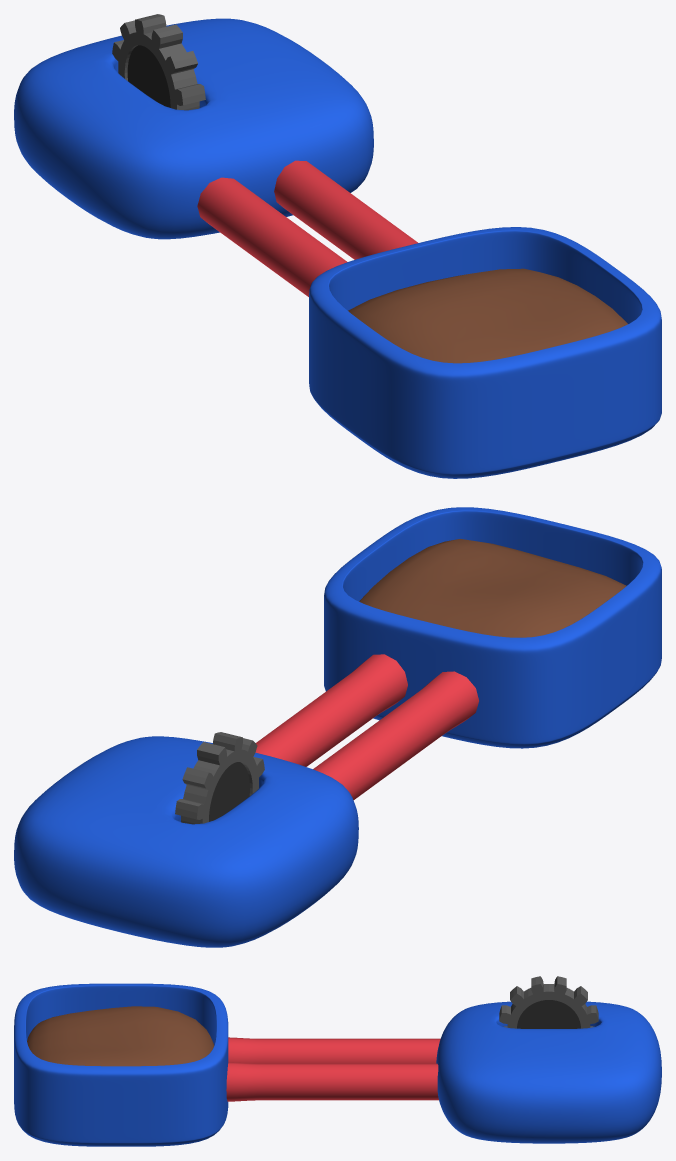
Rendered from simple-animation-three-anime.glb.
3 views of the same model, one above another, from view 1: azimuth 30°, elevation 25°; view 2: azimuth 150°, elevation 25°; view 3: azimuth 270°, elevation 25° (orthographic). The views are drawn at different scales.
Visible parts, largest first — view 1: Input, Cube, Cube.001, 1 Pipe, 2 Pipe, Gear; view 2: Cube, Input, Cube.001, 1 Pipe, 2 Pipe, Gear; view 3: Cube, Input, Cube.001, 2 Pipe, 1 Pipe, Gear.
Boxes of the visible parts, <box> form: Input: <box>309,227,661,478</box>; Cube: <box>14,18,373,239</box>; Cube.001: <box>348,268,627,363</box>; 1 Pipe: <box>197,177,347,296</box>; 2 Pipe: <box>274,160,417,259</box>; Gear: <box>112,14,205,110</box>; Cube: <box>14,736,358,947</box>; Input: <box>324,507,661,748</box>; Cube.001: <box>359,539,626,637</box>; 1 Pipe: <box>313,671,478,800</box>; 2 Pipe: <box>255,654,407,766</box>; Gear: <box>175,732,264,824</box>; Cube: <box>436,1001,661,1143</box>; Input: <box>14,983,228,1146</box>; Cube.001: <box>27,1006,214,1066</box>; 2 Pipe: <box>226,1062,438,1101</box>; 1 Pipe: <box>228,1037,440,1063</box>; Gear: <box>499,976,598,1028</box>.
Size of the model in its own units: 5.06 by 2.93 by 14.14.
